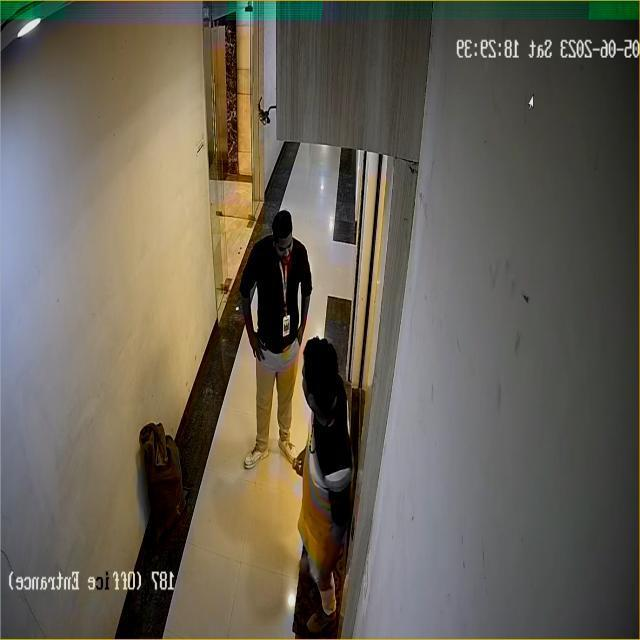gunny_bag: (140, 418, 190, 540)
